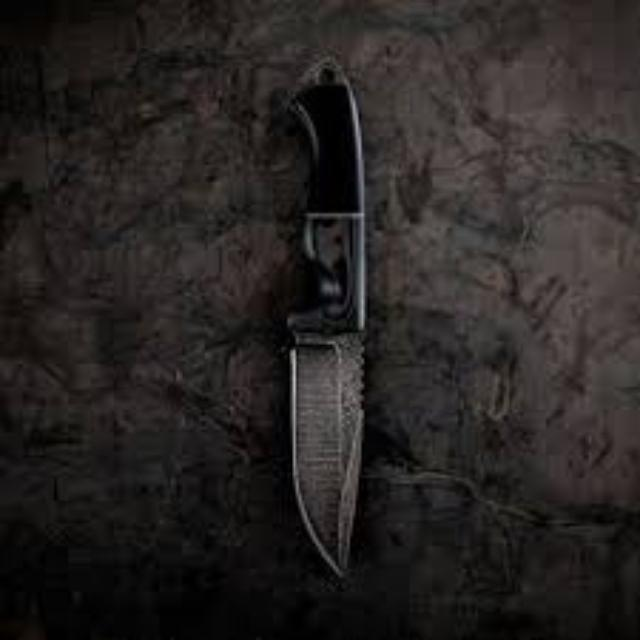knife: (282, 57, 366, 577)
